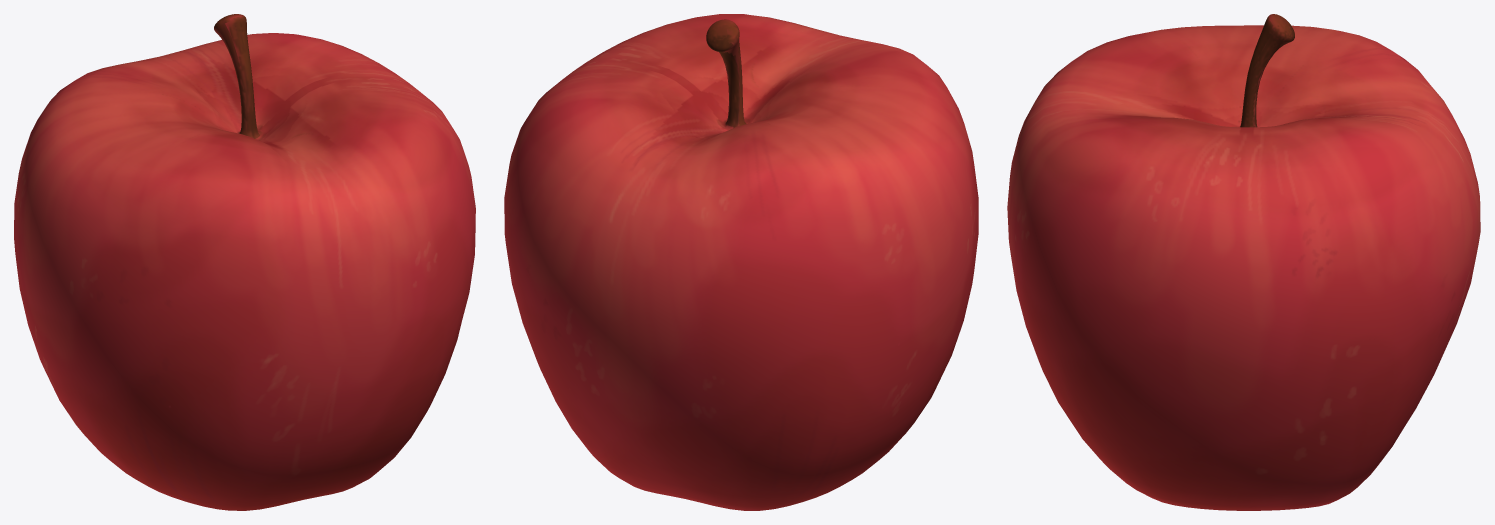
Rendered from apple.fbx.
3 renders of one model, left to right at view 1: azimuth 30°, elevation 25°; view 2: azimuth 150°, elevation 25°; view 3: azimuth 270°, elevation 25°, orthographic. The views are drawn at different scales.
Parts seen in each view (by area): view 1: Circle; view 2: Circle; view 3: Circle.
Boxes of the visible parts, x1,y1,x2,y2 form: Circle: (14,14,475,510); Circle: (504,14,978,510); Circle: (1007,14,1480,510).
Bounding box in the file's own units: 214 × 228 × 213.
